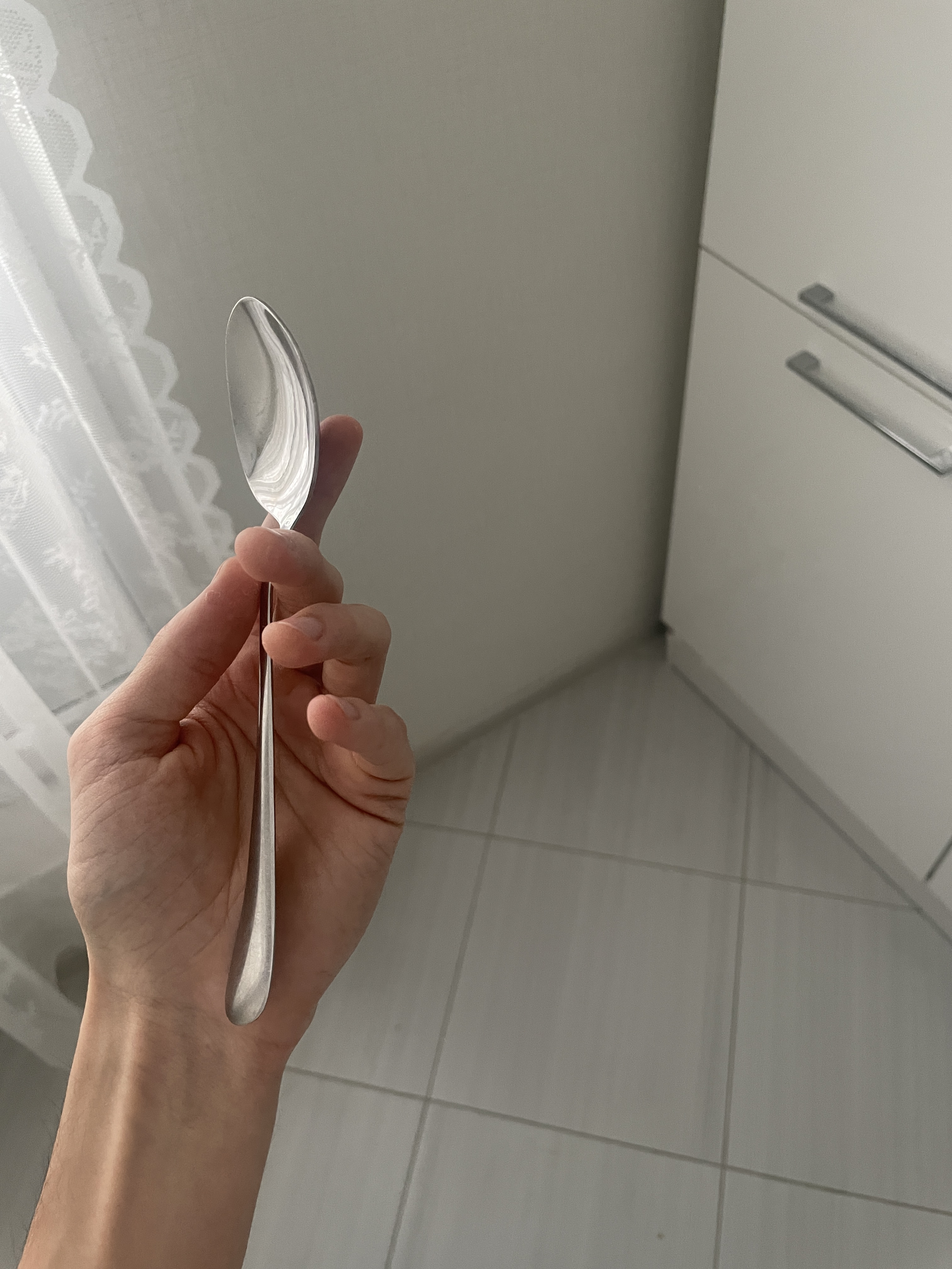spoon: (220, 295, 320, 1027)
